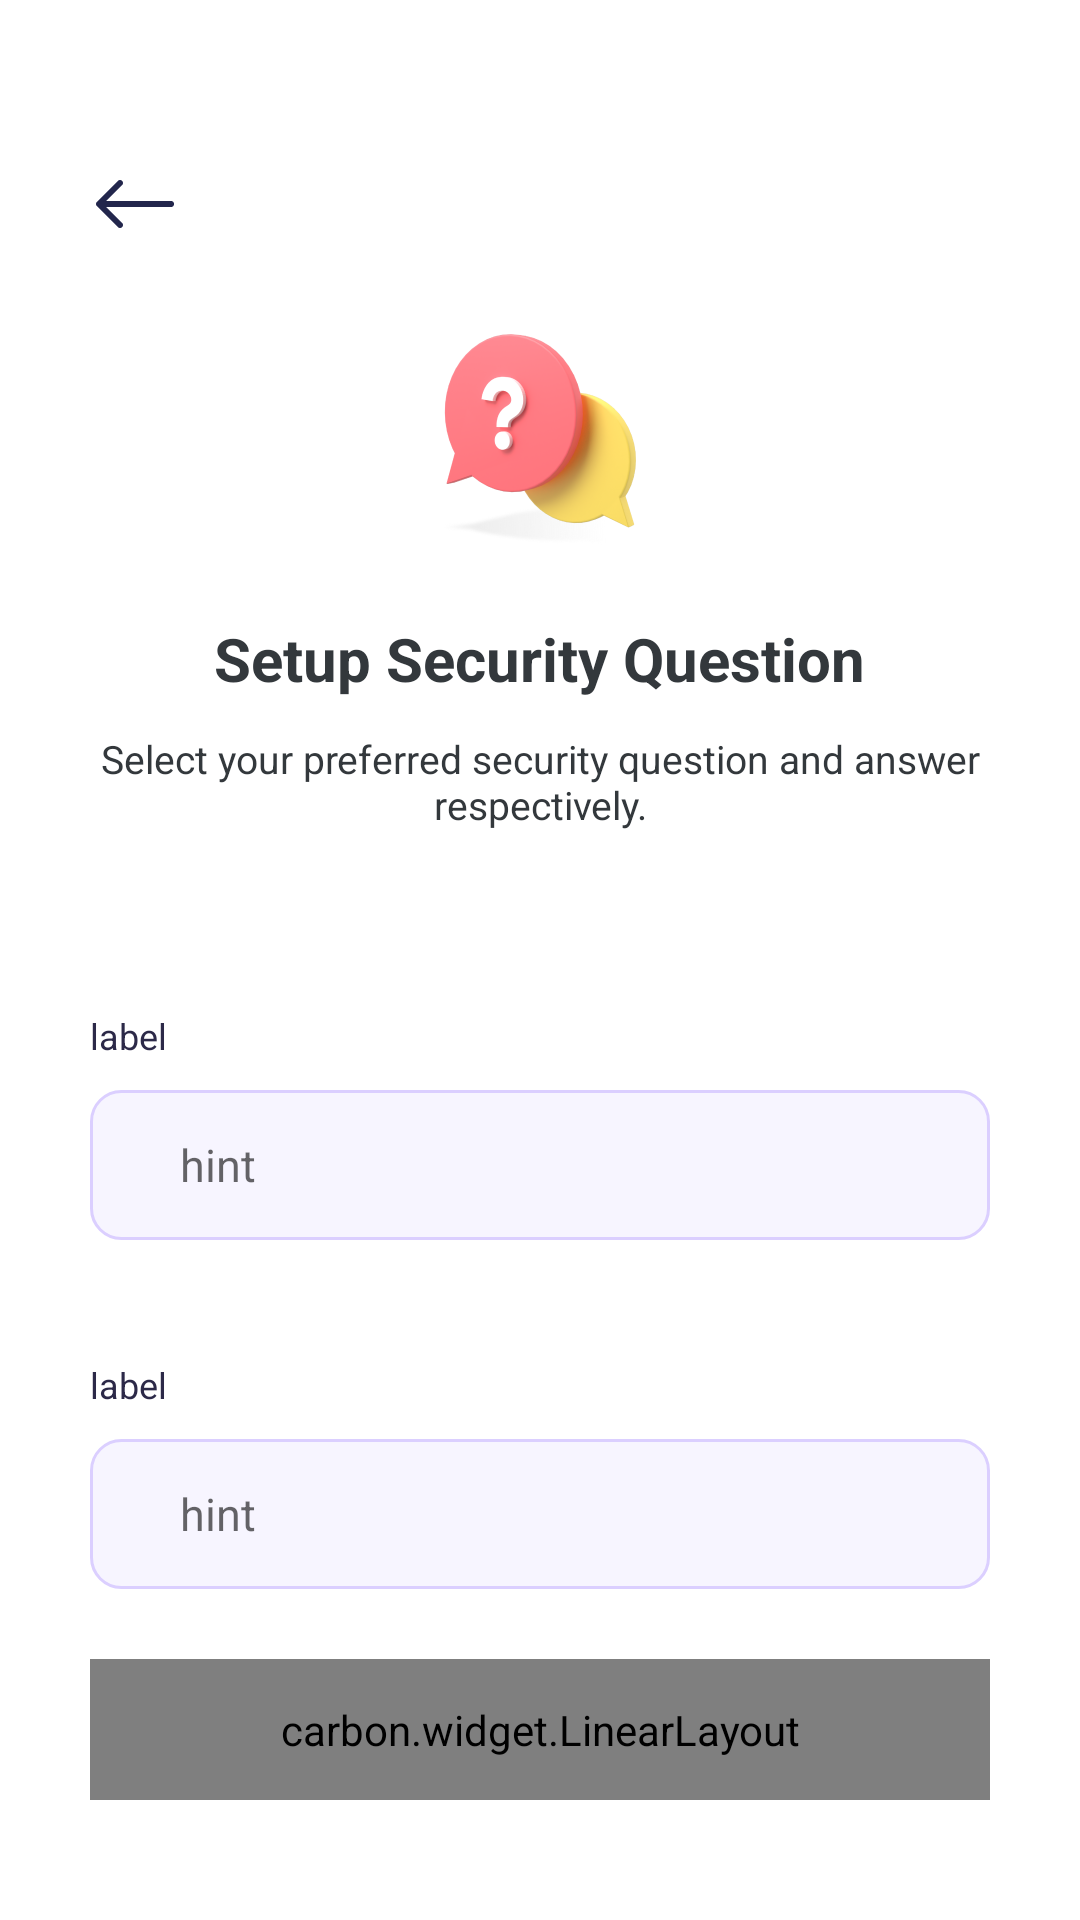

Screen size 1080×1920. Icon name, then its box in pixels as (x1, y1, x2, y2):
arrow left: (96, 180, 174, 228)
